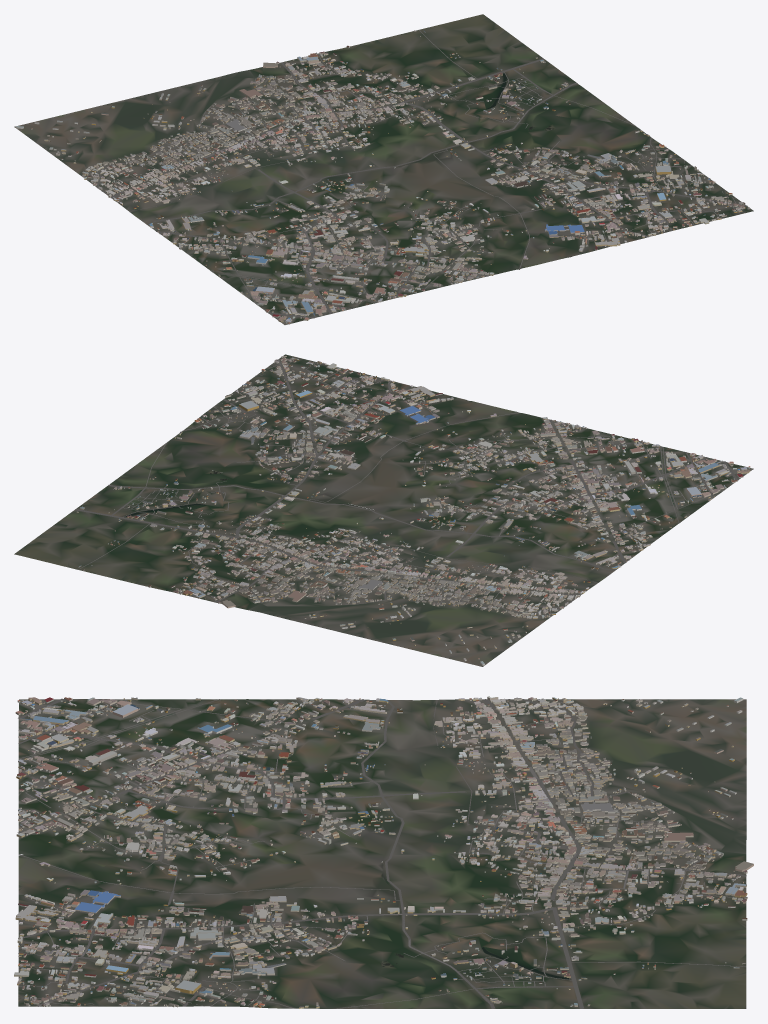
3 views of the same model, one above another, from view 1: azimuth 30°, elevation 25°; view 2: azimuth 150°, elevation 25°; view 3: azimuth 270°, elevation 25° (orthographic). The views are drawn at different scales.
Visible parts, largest first — view 1: ground, buildings, roads; view 2: ground, buildings, roads; view 3: ground, buildings, roads.
Part boxes in pixels (left/top/right/bottom): ground: left=14, top=14, right=753, bottom=324; buildings: left=16, top=30, right=749, bottom=324; roads: left=87, top=29, right=747, bottom=318; ground: left=14, top=354, right=753, bottom=666; buildings: left=76, top=356, right=750, bottom=665; roads: left=75, top=359, right=738, bottom=615; ground: left=18, top=699, right=746, bottom=1008; buildings: left=14, top=696, right=753, bottom=1008; roads: left=17, top=698, right=746, bottom=1008.
Size of the model in its own units: 2811 by 38.07 by 2848.
